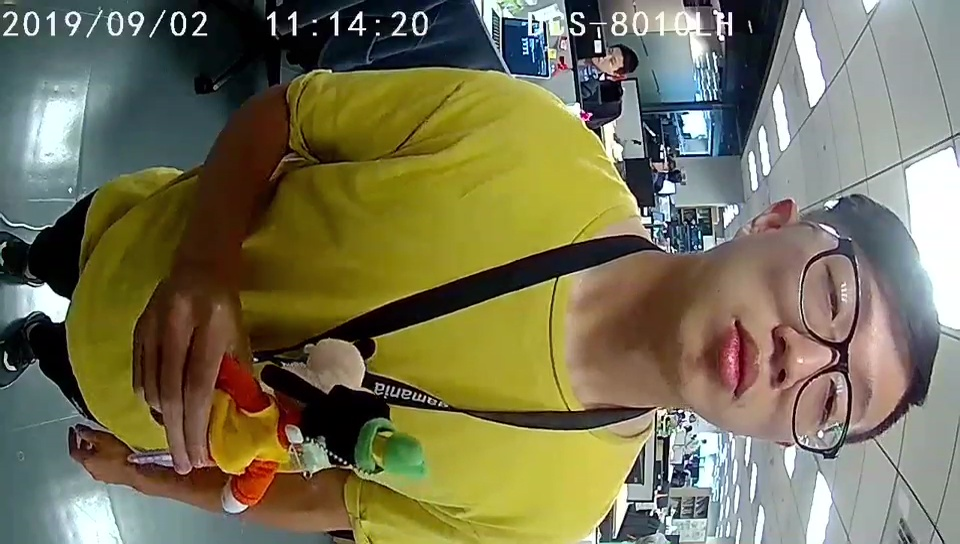goofy: (219, 365, 429, 512)
